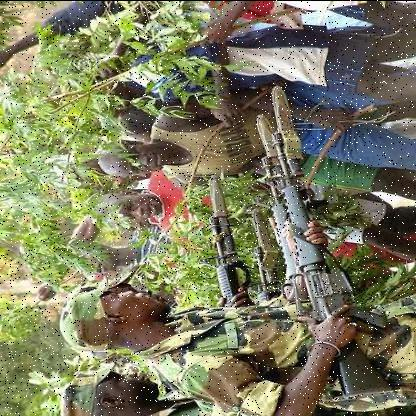rifle: (261, 126, 413, 400)
